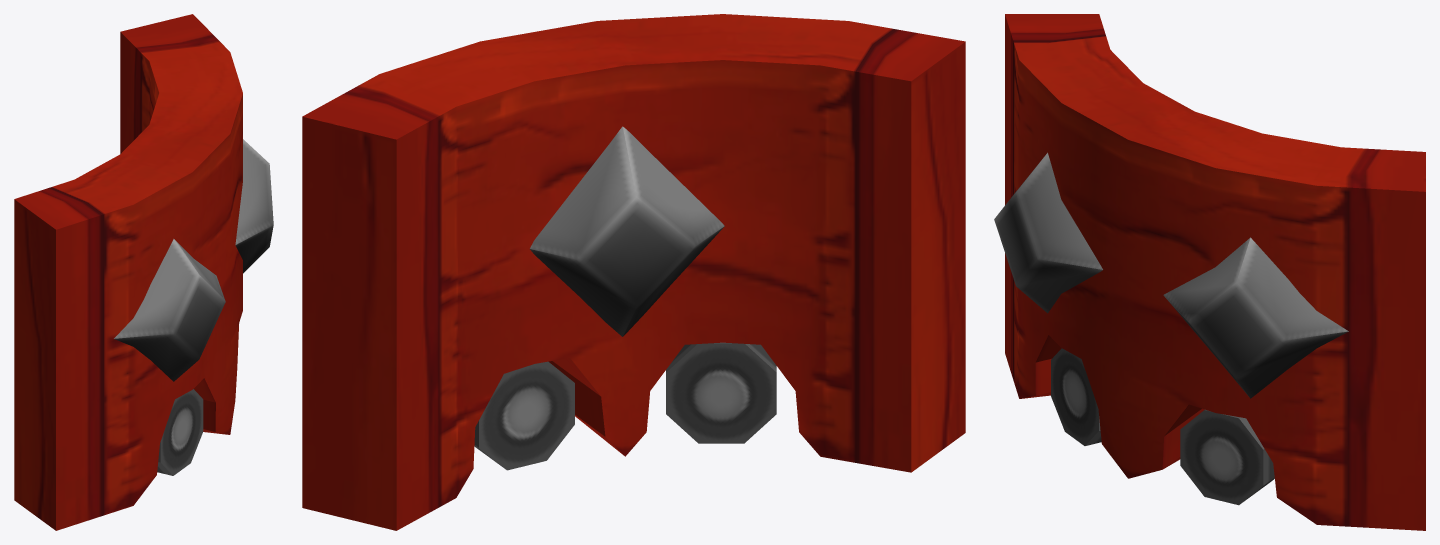
Rendered from dynamic_arched_fence_red_01.fbx.
3 renders of one model, left to right at view 1: azimuth 30°, elevation 25°; view 2: azimuth 150°, elevation 25°; view 3: azimuth 270°, elevation 25°, orthographic. The views are drawn at different scales.
Parts seen in each view (by area): view 1: dynamic_arched_fence_red_01; view 2: dynamic_arched_fence_red_01; view 3: dynamic_arched_fence_red_01.
Part boxes in pixels (x1,y1,x2,y2): dynamic_arched_fence_red_01: (14, 14, 273, 530); dynamic_arched_fence_red_01: (302, 14, 965, 530); dynamic_arched_fence_red_01: (994, 14, 1425, 530).
Bounding box in the file's own units: 46.28 × 40 × 46.16.
